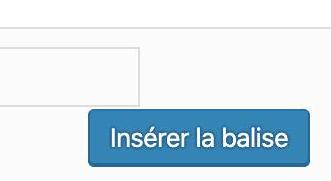button: (85, 107, 313, 169)
